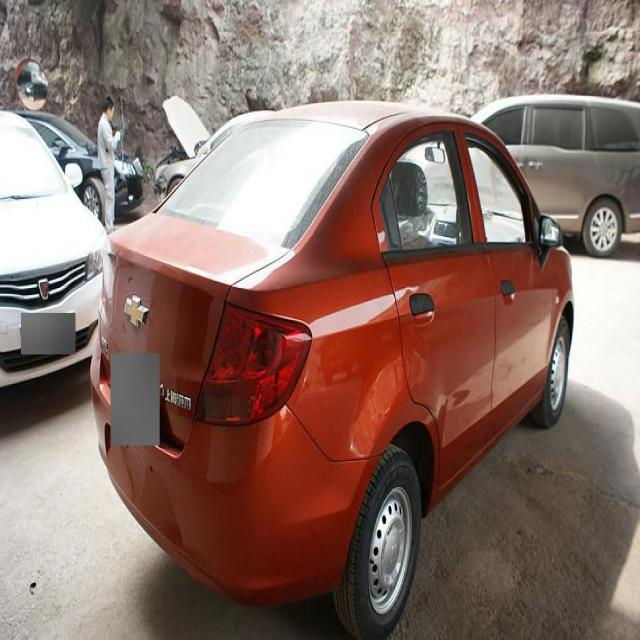back_glass: (158, 114, 372, 249)
back_right_side_light: (193, 298, 313, 426)
door: (367, 123, 489, 440)
front_right_side_door: (458, 121, 554, 443)
front_right_side_mirror: (538, 211, 563, 263)
rear_bumper: (84, 368, 367, 604)
wheel: (332, 442, 424, 637), (525, 316, 570, 432)
